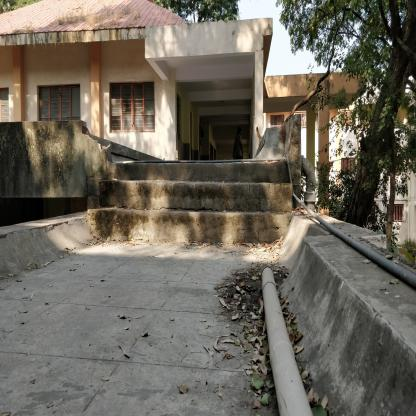stairs: (111, 159, 290, 252)
